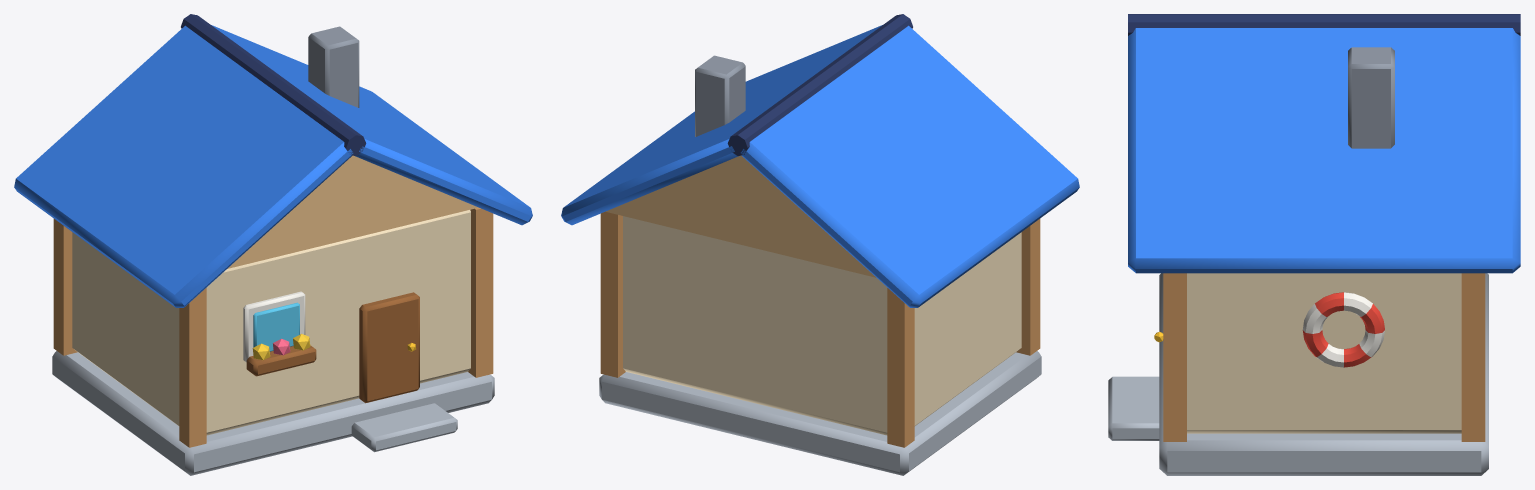
Rendered from home_house.fbx.
3 renders of one model, left to right at view 1: azimuth 30°, elevation 25°; view 2: azimuth 150°, elevation 25°; view 3: azimuth 270°, elevation 25°, orthographic. The views are drawn at different scales.
Visible parts, largest first — view 1: home_house; view 2: home_house; view 3: home_house.
Boxes of the visible parts, x1,y1,x2,y2 form: home_house: (14, 14, 532, 475); home_house: (561, 14, 1079, 475); home_house: (1108, 14, 1520, 475).
Size of the model in its own units: 1.26 by 1.07 by 1.05.
